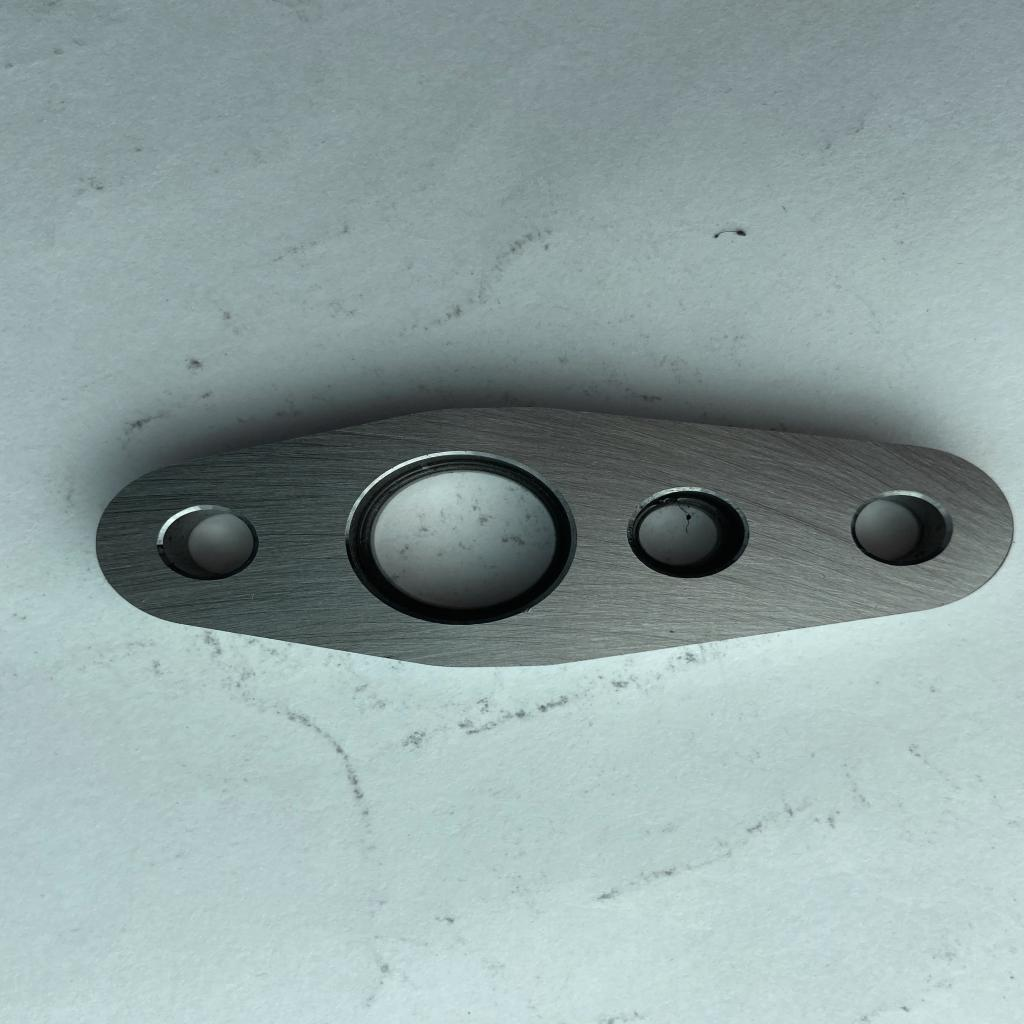chap: (664, 626, 680, 635), (682, 585, 689, 591)
lines: (751, 502, 853, 582)
